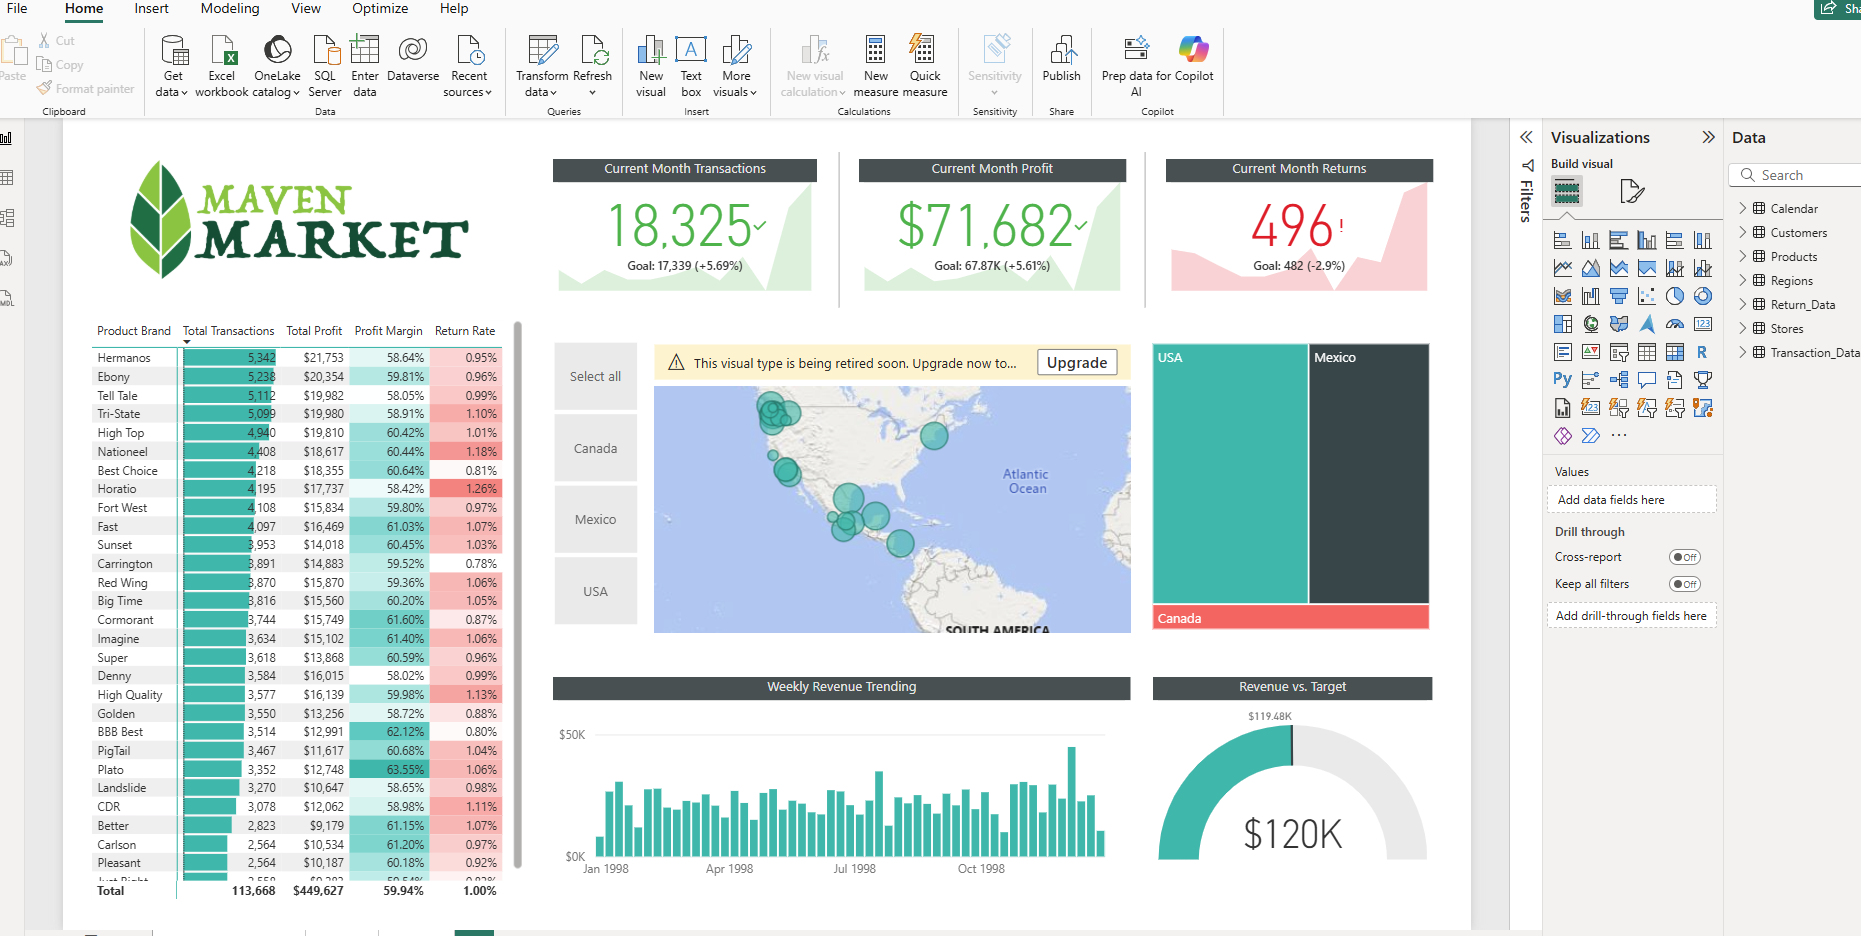

The dashboard page shown, as its layout file describes it:
{"tool":"powerbi","page":{"name":"Topline Performance","canvas":[1280,720],"ordinal":0},"visuals":[{"type":"image","box":[40,7.5,346.6,132.7],"z":0},{"type":"pivotTable","fields":{"Values":["Transaction_Data.Total Transactions","Transaction_Data.Total Profit","Transaction_Data.Profit Margin","Return_Data.Return Rate"],"Rows":["Products.product_brand"]},"box":[20.6,161.3,401.5,536],"z":1000},{"type":"kpi","title":"Current Month Transactions","fields":{"TrendLine":["Calendar.Start of Month"],"Goal":["Transaction_Data.Last Month Transactions"],"Indicator":["Transaction_Data.Total Transactions"]},"box":[445.9,19,240.2,124.7],"z":2000},{"type":"kpi","title":"Current Month Profit","fields":{"TrendLine":["Calendar.Start of Month"],"Goal":["Transaction_Data.Last Month Profit"],"Indicator":["Transaction_Data.Total Profit"]},"box":[723.3,19,242.5,124.7],"z":3000},{"type":"kpi","title":"Current Month Returns","fields":{"TrendLine":["Calendar.Start of Month"],"Goal":["Return_Data.Last Month Returns"],"Indicator":["Return_Data.Total Returns"]},"box":[1003,19,242.5,124.7],"z":4000},{"type":"map","fields":{"Category":["Stores.store_city"],"Size":["Transaction_Data.Total Transactions"]},"box":[532.8,182.5,442.7,266.5],"z":5000},{"type":"slicer","fields":{"Values":["Stores.store_country"]},"box":[420.5,178.9,124.7,270],"z":6000},{"type":"columnChart","title":"Weekly Revenue Trending","fields":{"Category":["Calendar.Start of Week"],"Y":["Transaction_Data.Total Revenue"]},"box":[445.9,490,525.3,192.2],"z":7000},{"type":"gauge","title":"Revenue vs. Target","fields":{"Y":["Transaction_Data.Total Revenue"],"TargetValue":["Transaction_Data.Revenue Target"]},"box":[991.1,490,254.4,171.6],"z":8000},{"type":"basicShape","box":[671.7,2.9,67.5,161.3],"z":9000},{"type":"basicShape","box":[950.3,2.9,67.5,161.3],"z":10000},{"type":"treemap","fields":{"Group":["Stores.store_country","Stores.store_state","Stores.store_city"],"Values":["Transaction_Data.Total Transactions"]},"box":[985.8,181.4,261.9,270],"z":11000}]}

Visuals, with their boxes on the page's 1280x720 design canvas (x1, y1, x2, y2). These are canvas units, not pixel positions in the 1861x936 screenshot, which may show the page scaled, cropped or inside an application window:
image: [40, 8, 387, 140]
pivotTable - Transaction_Data.Total Transactions x Transaction_Data.Total Profit: [21, 161, 422, 697]
"Current Month Transactions" kpi: [446, 19, 686, 144]
"Current Month Profit" kpi: [723, 19, 966, 144]
"Current Month Returns" kpi: [1003, 19, 1246, 144]
map - Stores.store_city x Transaction_Data.Total Transactions: [533, 182, 976, 449]
slicer - Stores.store_country: [420, 179, 545, 449]
"Weekly Revenue Trending" columnChart: [446, 490, 971, 682]
"Revenue vs. Target" gauge: [991, 490, 1246, 662]
basicShape: [672, 3, 739, 164]
basicShape: [950, 3, 1018, 164]
treemap - Stores.store_country x Stores.store_state: [986, 181, 1248, 451]
